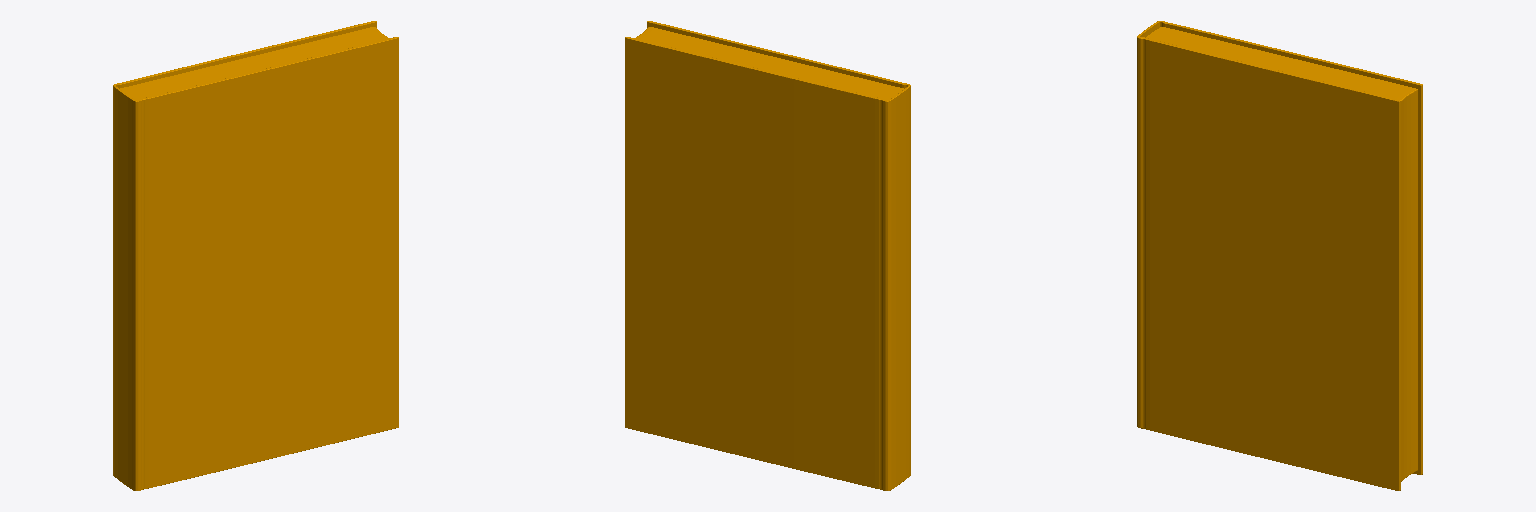
URDF robot description (book1):
<?xml version="1.0"?>
<robot name="book1">
  <material name="blue">
    <color rgba="0.0 0.0 1.0 1.0"/>
  </material>

  <!-- <material name="green"> -->
  <!--   <color rgba="0.1 1.0 0.1 1.0"/> -->
  <!-- </material> -->
  <link name="root">
    <visual>
      <origin xyz="0.0 0.0 0.0"/>
      <geometry>
        <mesh filename="../../meshes/objects/book1.obj" scale="0.02 0.02 0.02"/>
      </geometry>
    </visual>
    <collision>
      <origin xyz="-0.7 -0.36 0.0"/>
      <geometry>
        <mesh filename="../../meshes/objects/book1.obj" scale="0.02 0.02 0.02"/>
      </geometry>
    </collision>
  </link>

</robot>

--- Facts derived from the render (not from the file) ---
Views: 3 orthographic renders of the robot side by side, from view 1: azimuth 30°, elevation 25°; view 2: azimuth 150°, elevation 25°; view 3: azimuth 330°, elevation 25°.
Model book1 with 1 links and 0 joints (none), rooted at root, posed all joints at 0.
Links seen in each view (by area): view 1: root; view 2: root; view 3: root.
Boxes of the visible links, <box> form: root: <box>113,21,398,490</box>; root: <box>625,21,910,490</box>; root: <box>1137,21,1422,490</box>.
Size in the robot's own frame: 0.147 by 0.023 by 0.2074 metres.
1 mesh visuals loaded from 1 distinct referenced files (1 OBJ).